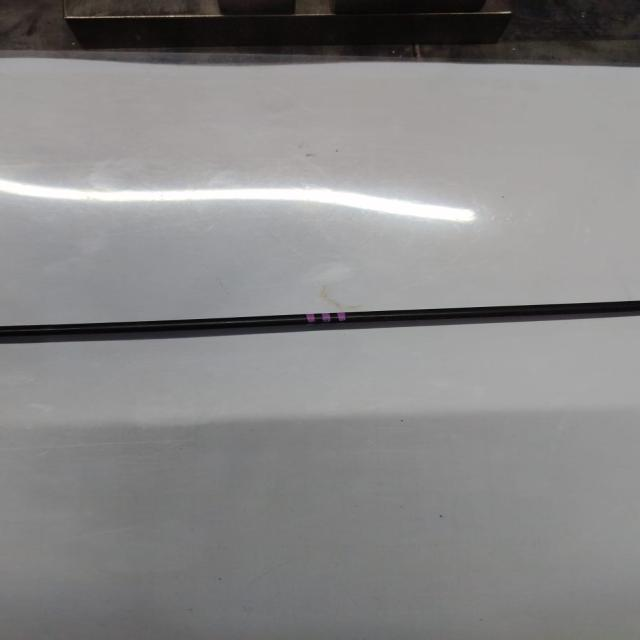pink: (306, 312, 346, 324)
